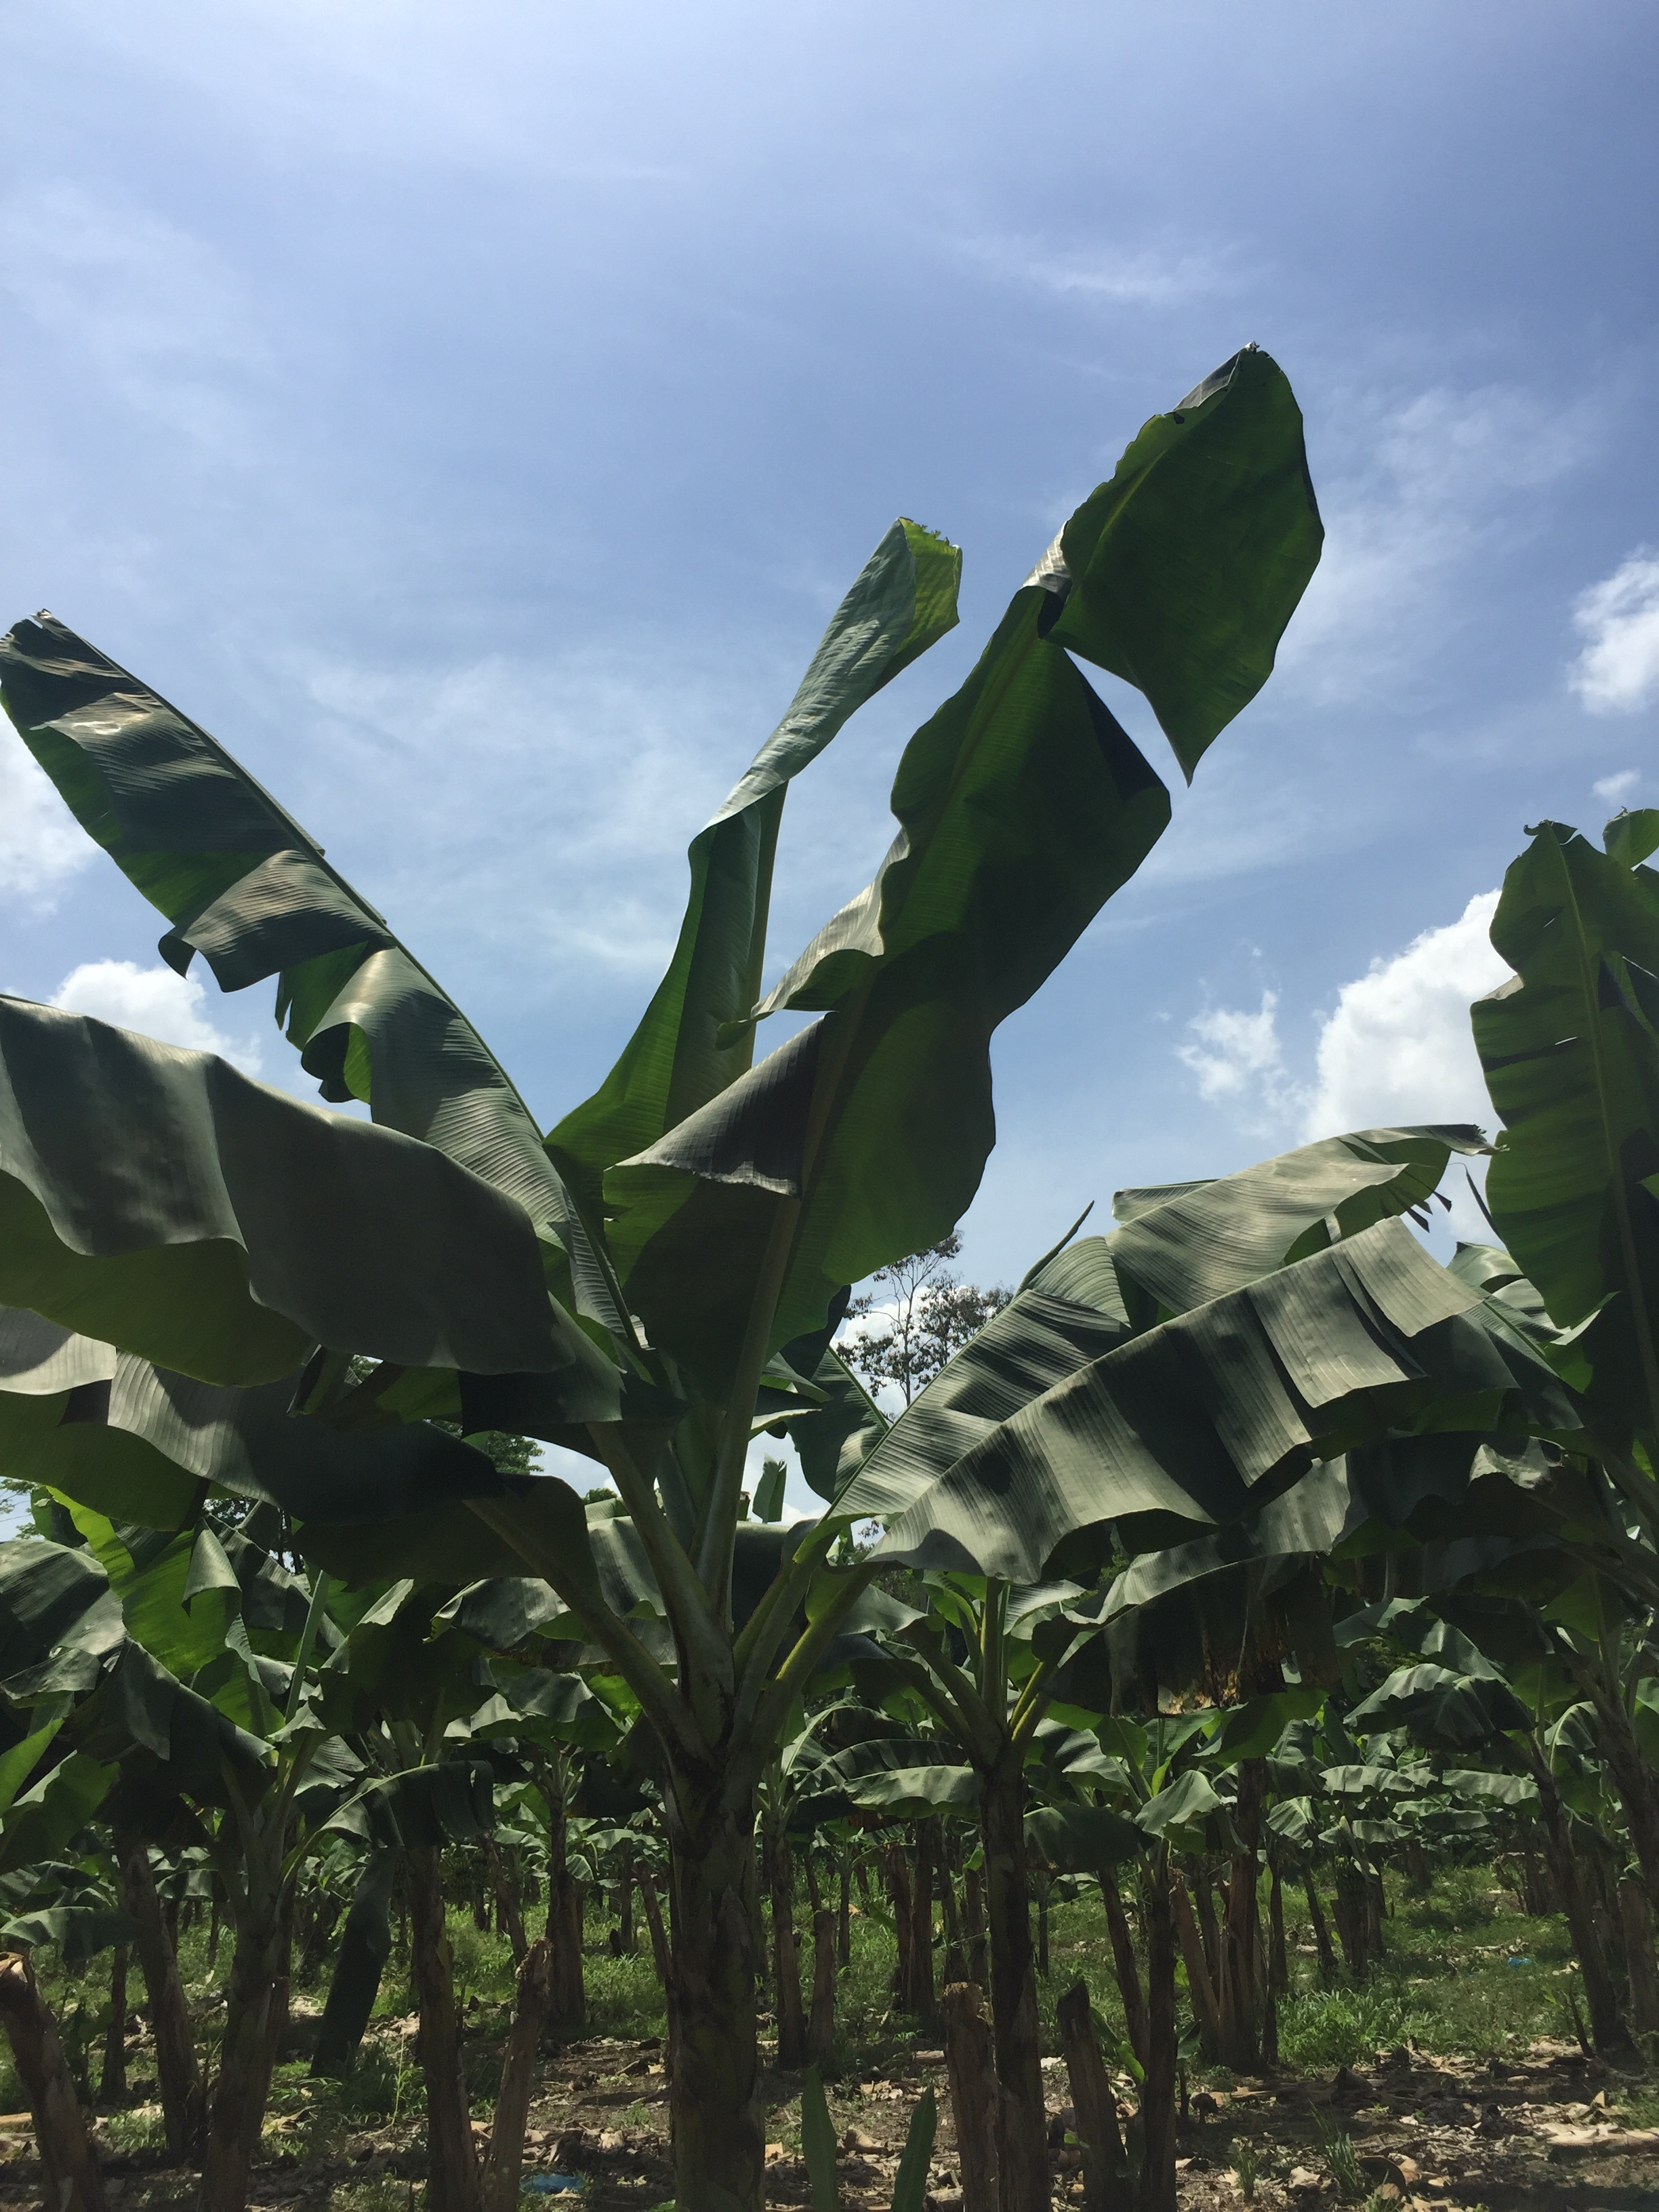candleleafs: (1011, 1198, 1096, 1299)
